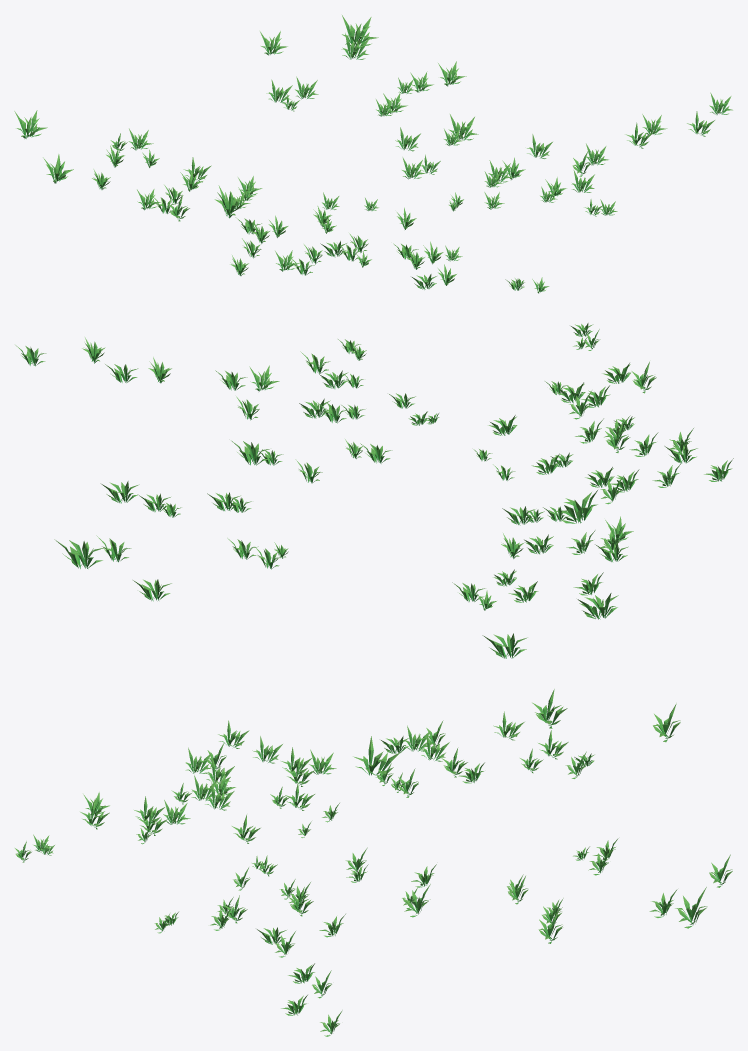
The model's file is Area_02_8.fbx.
The picture shows the model from 3 angles, top to bottom: view 1: azimuth 30°, elevation 25°; view 2: azimuth 150°, elevation 25°; view 3: azimuth 270°, elevation 25°; orthographic projection. The views are drawn at different scales.
Parts seen in each view (by area): view 1: Area_02_8; view 2: Area_02_8; view 3: Area_02_8.
Part boxes in pixels (left/top/right/bottom): Area_02_8: left=14, top=15, right=732, bottom=293; Area_02_8: left=15, top=323, right=733, bottom=658; Area_02_8: left=15, top=689, right=732, bottom=1036.
Bounding box in the file's own units: 2846 × 138 × 2675.
